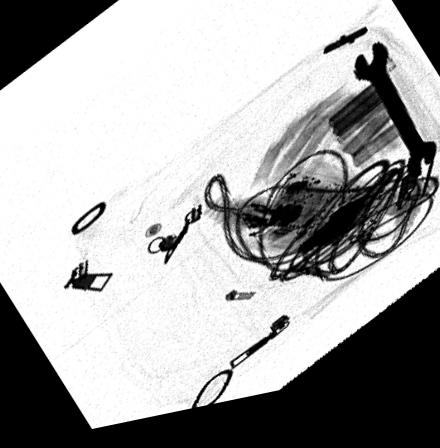Wrench: (351, 55, 440, 198)
